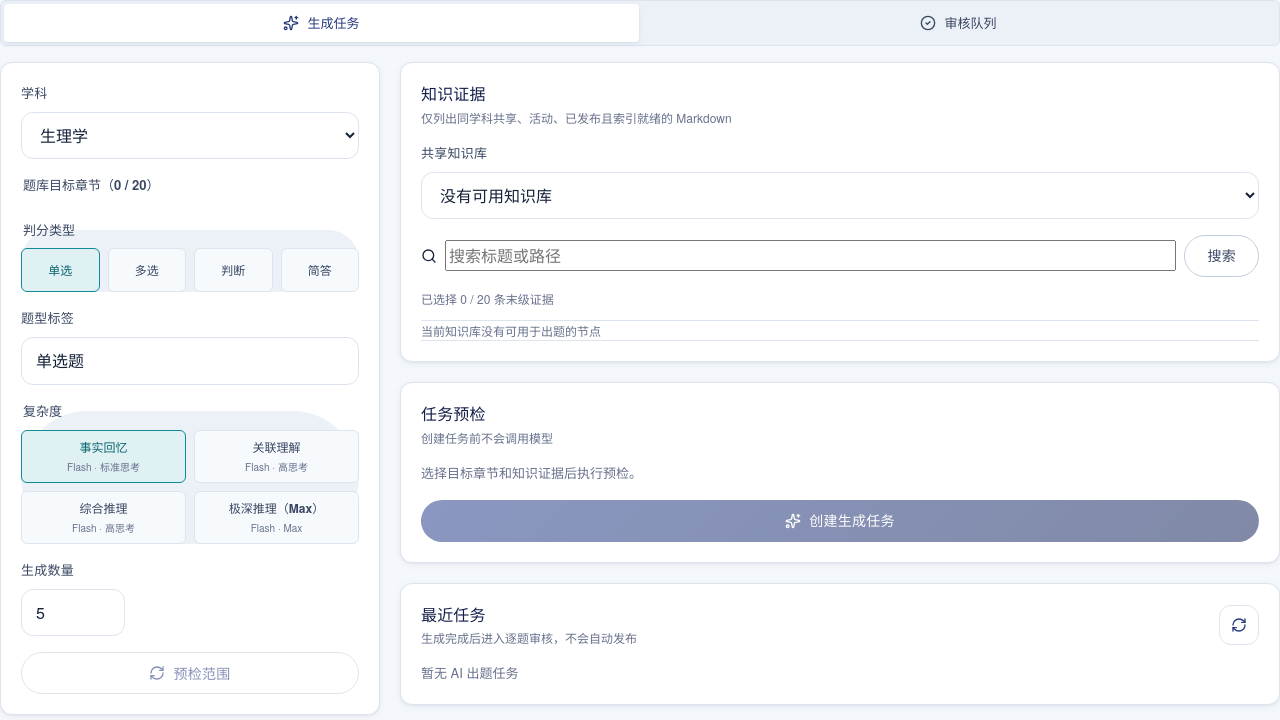
AdminQuizAi › refreshes the authoritative review queue after a bulk rebind conflict
Step 1. Click the tab "审核队列" → (958, 23), box [641, 4, 1276, 42]
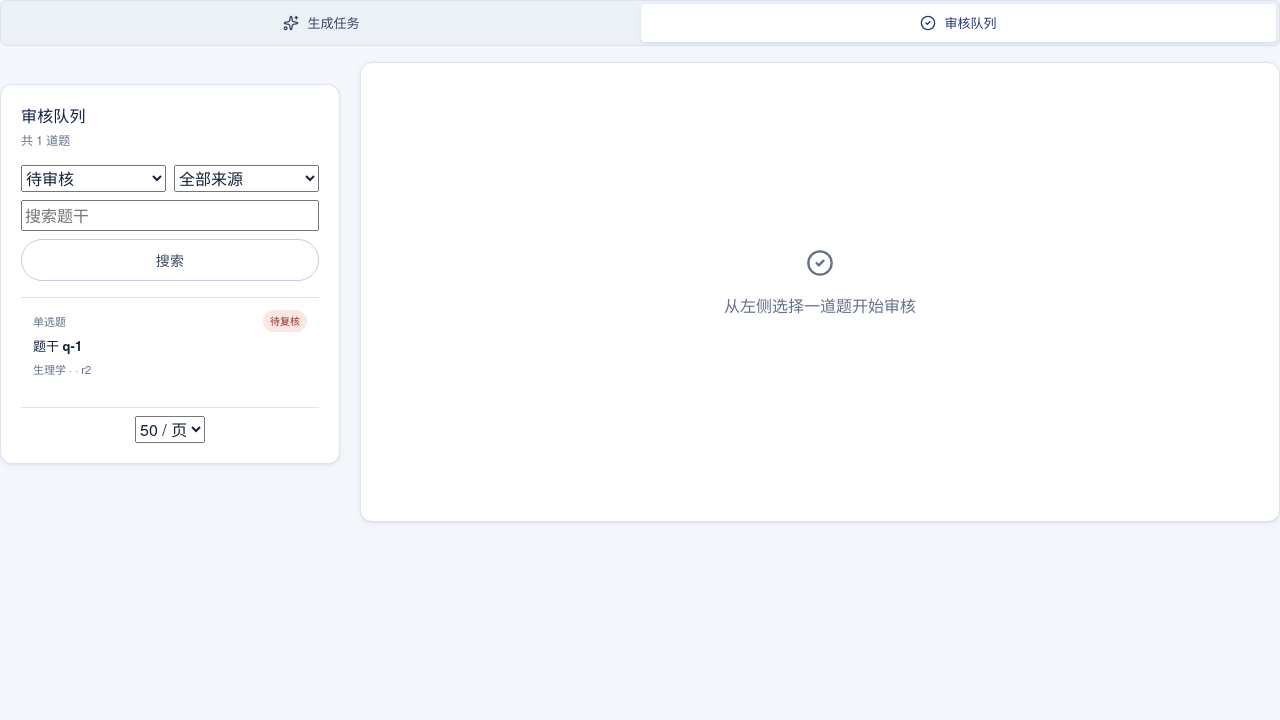
Step 2. Select "待复核" in the dropdown named "来源状态" → (246, 178), box [174, 165, 319, 192]
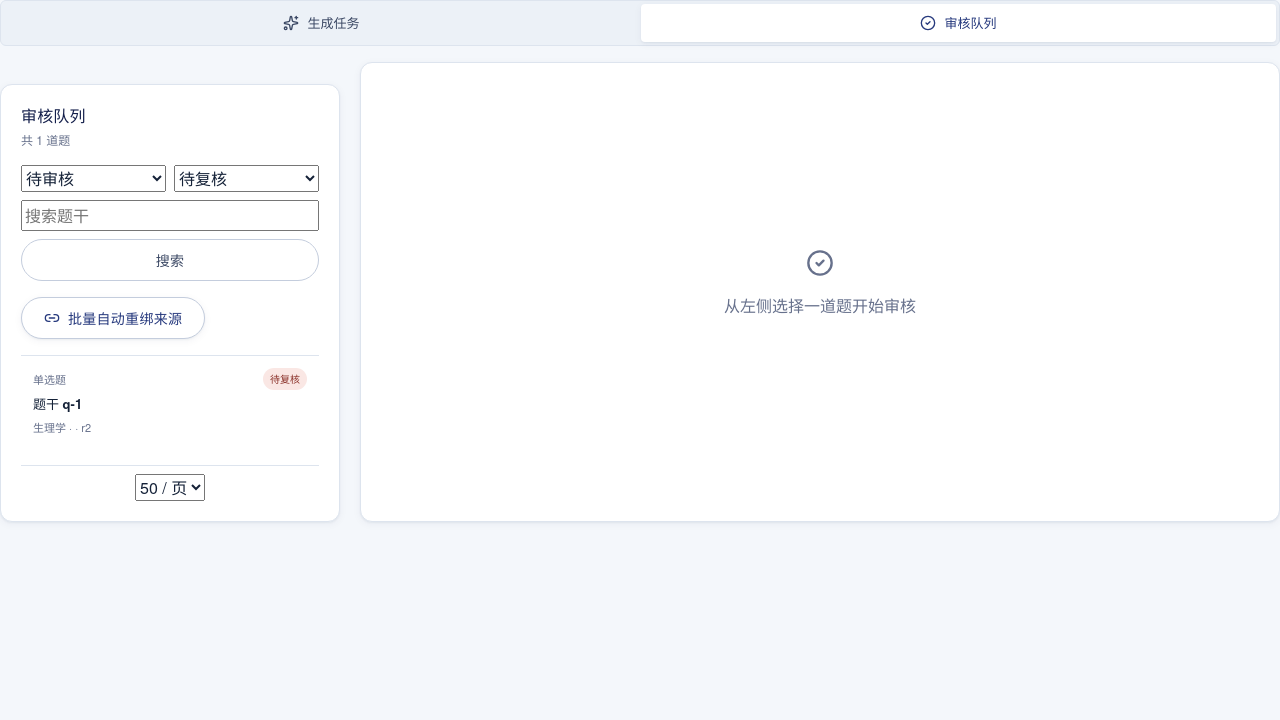
Step 3. Click the button "批量自动重绑来源" → (113, 318), box [21, 297, 205, 339]
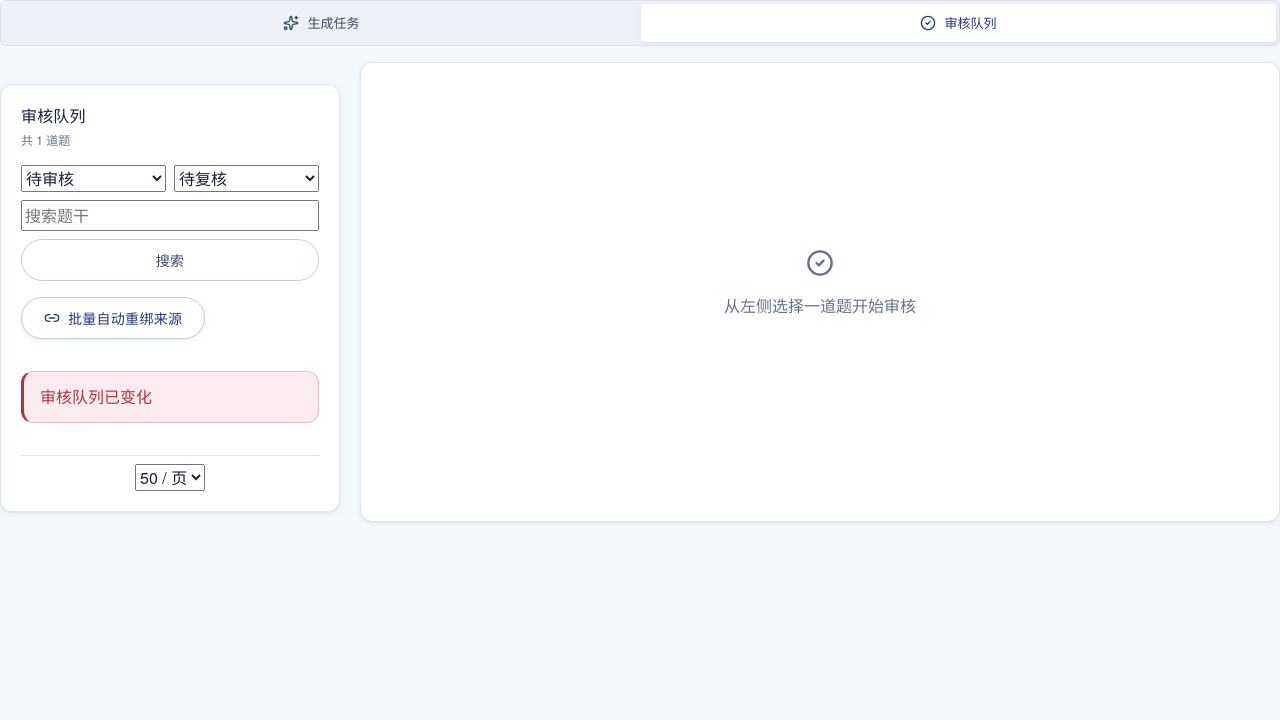
Result: the dropdown named "审核状态" is enabled at [21, 165, 166, 192]
Result: the text "审核队列已变化" is shown at [21, 371, 319, 423]
